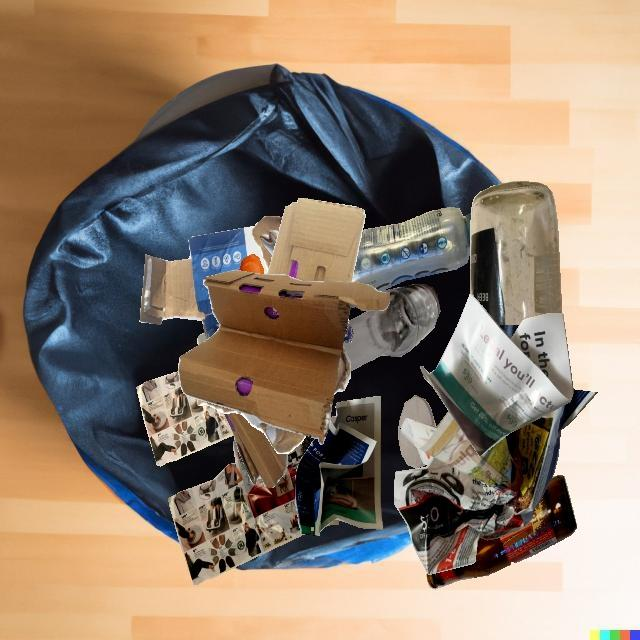biowaste: (239, 254, 263, 274)
cardboard: (178, 270, 390, 445), (200, 230, 337, 404), (139, 226, 268, 340), (267, 198, 366, 282), (224, 413, 288, 488)
glass: (426, 475, 577, 589), (470, 181, 562, 325), (343, 284, 440, 371), (398, 395, 436, 468)
paper: (394, 389, 597, 575), (420, 294, 574, 457), (168, 439, 304, 584), (295, 396, 383, 536), (136, 371, 234, 466)
plastic: (352, 207, 471, 292)
